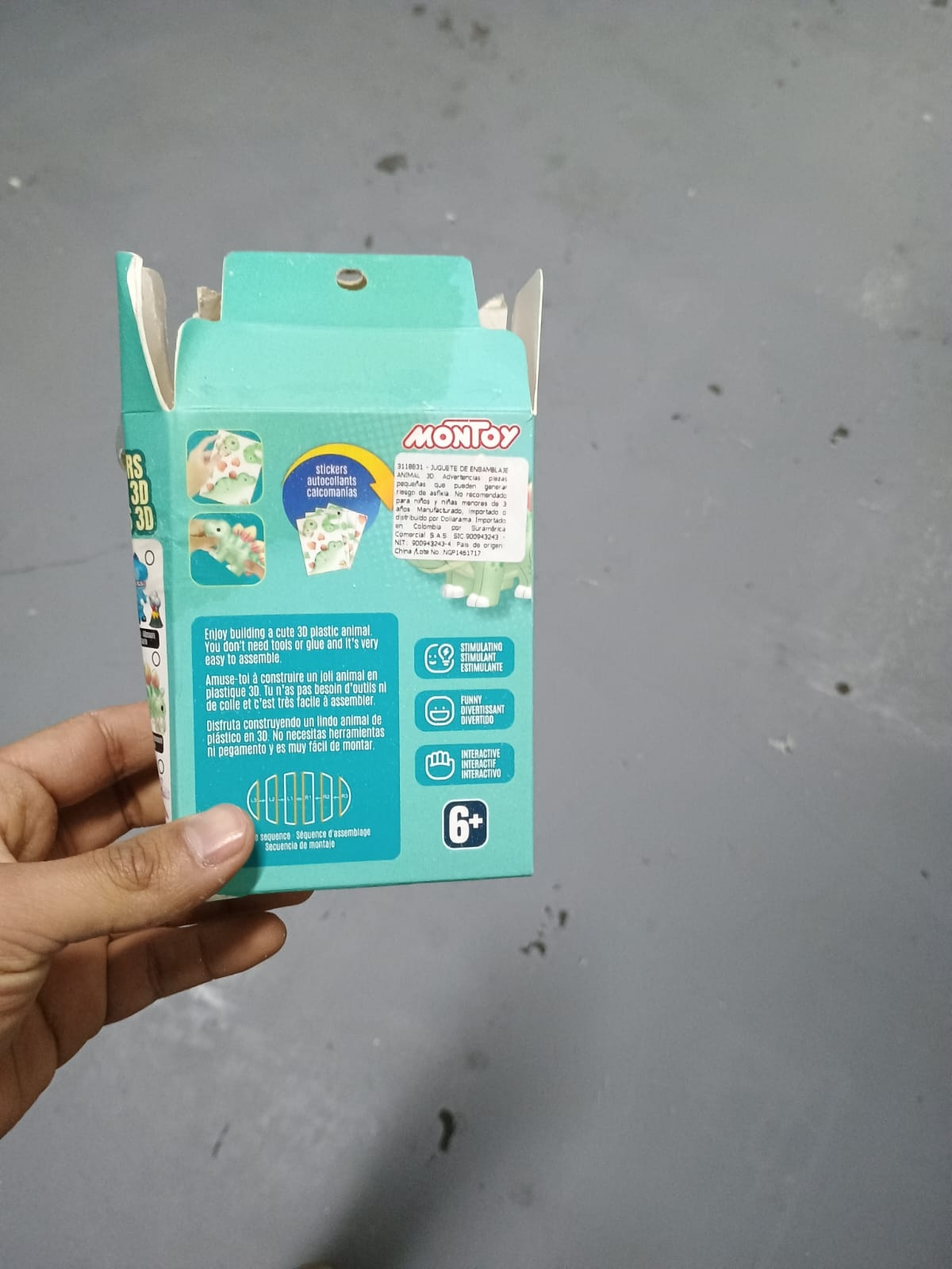Carton: (117, 253, 535, 896)
